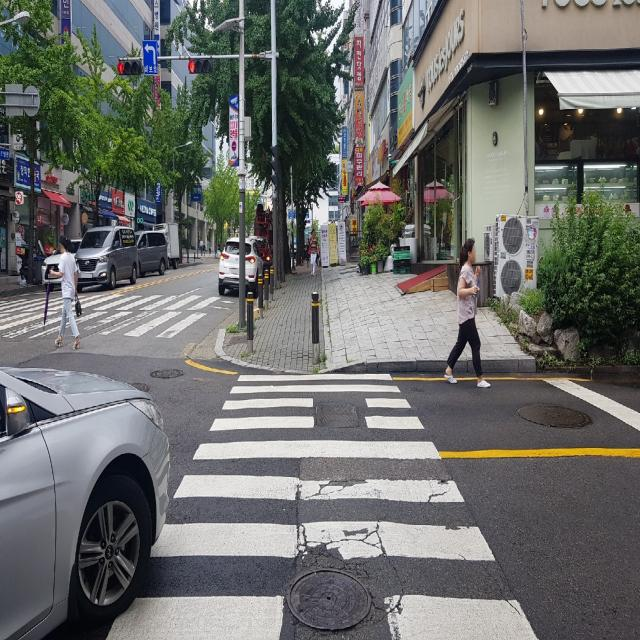횡단보도: (105, 373, 542, 640), (0, 260, 231, 342)
